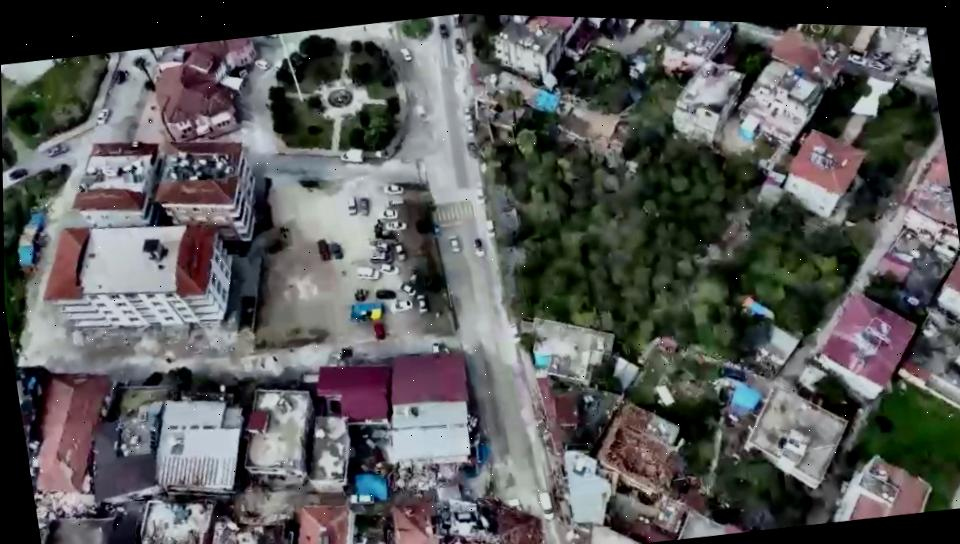kapali: (479, 447, 570, 544)
